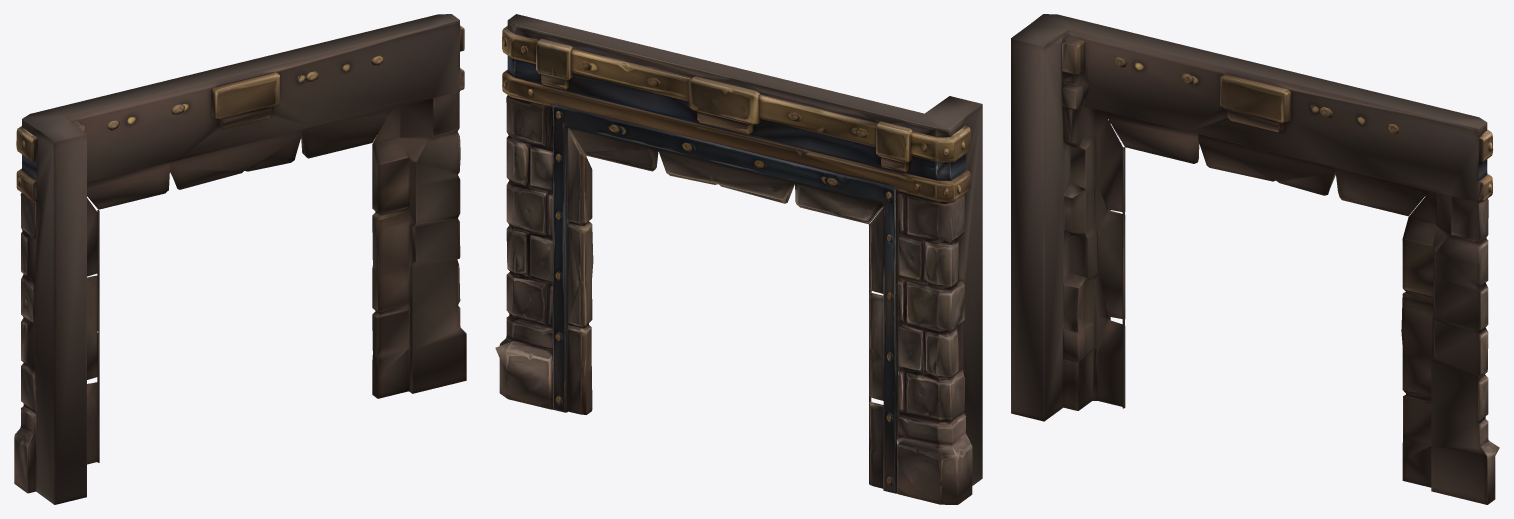
File: asset.glb
3 renders of one model, left to right at view 1: azimuth 30°, elevation 25°; view 2: azimuth 150°, elevation 25°; view 3: azimuth 330°, elevation 25°, orthographic. The views are drawn at different scales.
Parts seen in each view (by area): view 1: tripo_node_a26f3f1f-b294-447b-8573-0eeea5696deb; view 2: tripo_node_a26f3f1f-b294-447b-8573-0eeea5696deb; view 3: tripo_node_a26f3f1f-b294-447b-8573-0eeea5696deb.
Part boxes in pixels (x1=…): tripo_node_a26f3f1f-b294-447b-8573-0eeea5696deb: x1=14, y1=14, x2=466, y2=504; tripo_node_a26f3f1f-b294-447b-8573-0eeea5696deb: x1=495, y1=14, x2=982, y2=504; tripo_node_a26f3f1f-b294-447b-8573-0eeea5696deb: x1=1011, y1=14, x2=1499, y2=504.
Size of the model in its own units: 67.13 by 52.33 by 10.
1 material, 1 textured.
